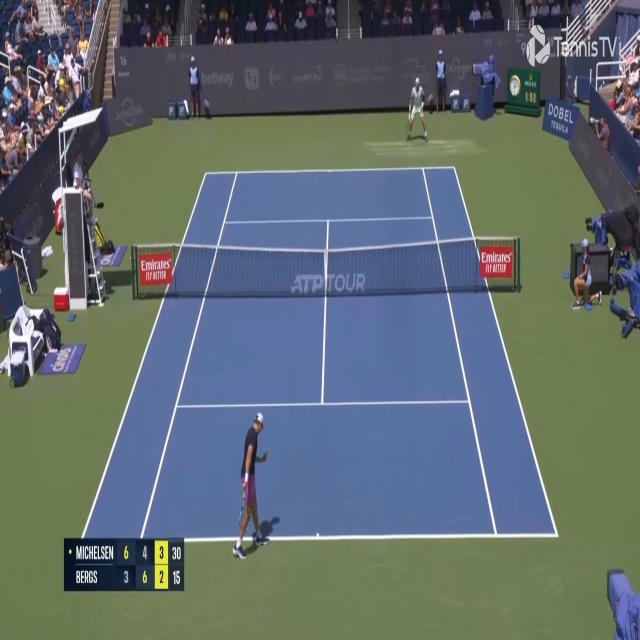tennis-player: (231, 409, 280, 563), (405, 76, 430, 143)
